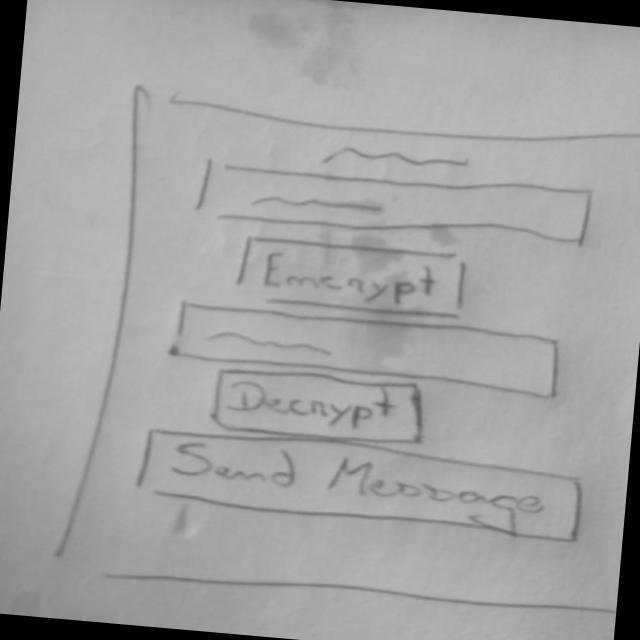button: (130, 422, 601, 550), (228, 229, 474, 322), (202, 360, 437, 453)
container: (55, 79, 640, 629)
input: (168, 299, 572, 403), (189, 156, 607, 253)
text: (302, 131, 483, 184)
